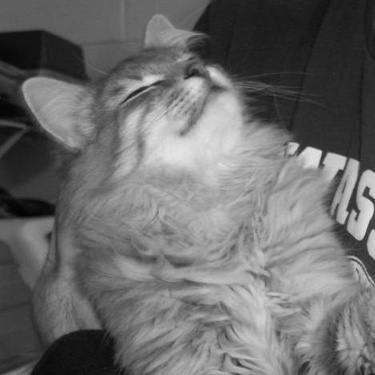cat: (18, 10, 355, 358)
